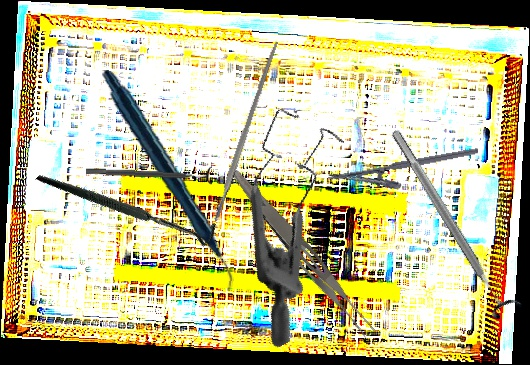Dressing Forceps: (223, 166, 380, 341)
Fixation Ring: (380, 122, 524, 323), (85, 160, 213, 186)
Handpiece: (84, 69, 251, 292)
Hook Surgical: (34, 108, 223, 301)
Needle Holder: (327, 147, 483, 201)
Scalpel Handle: (210, 40, 281, 222)
Speculum: (180, 90, 413, 350)
